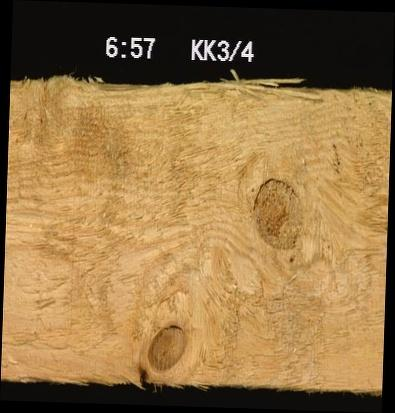dry_knot: (248, 174, 304, 251), (143, 321, 187, 371)
wave: (57, 76, 167, 101)
